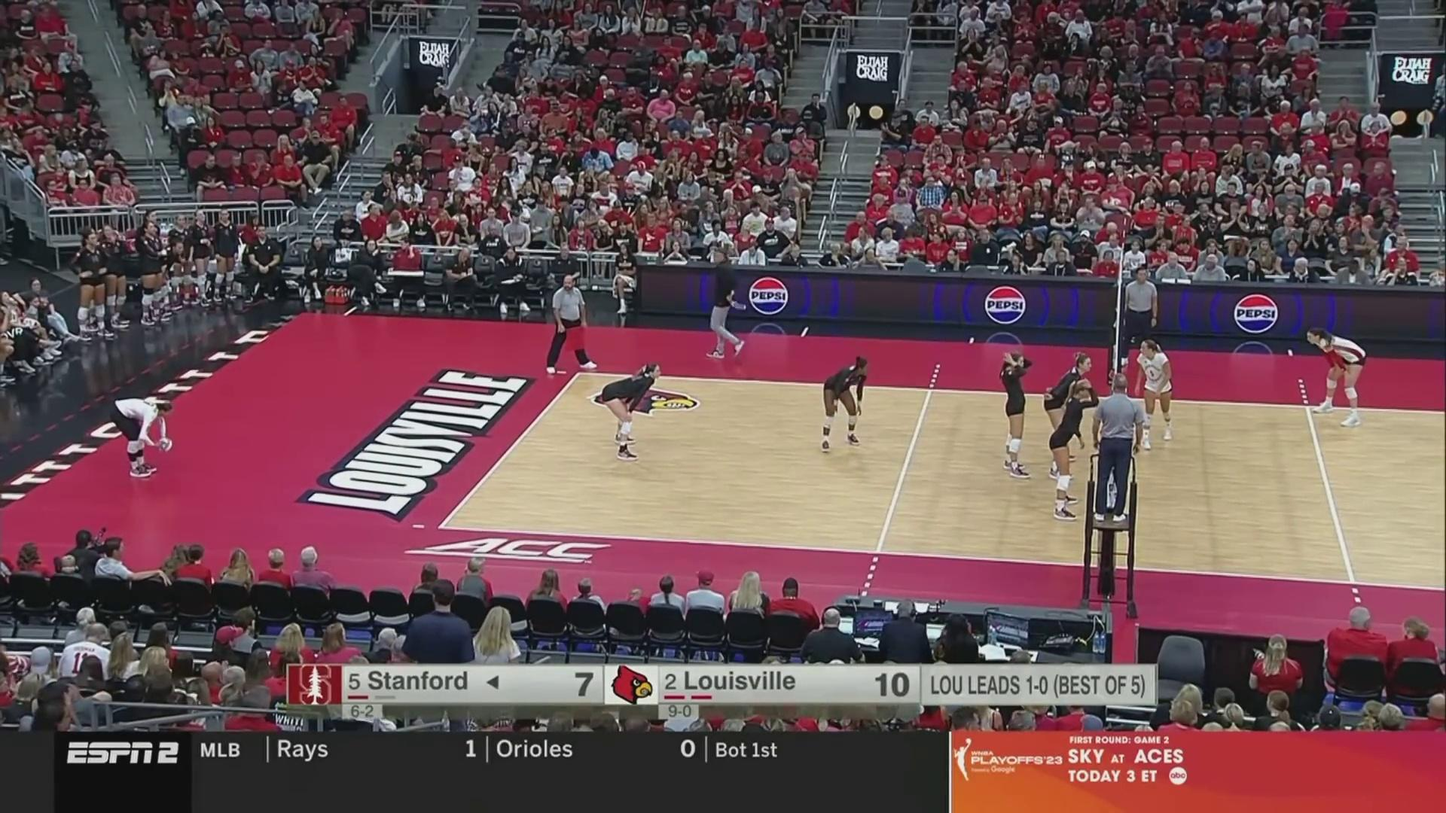player: (1049, 379, 1096, 520), (1044, 350, 1091, 480), (601, 360, 661, 461), (1306, 328, 1367, 424), (106, 400, 174, 477), (820, 358, 869, 452), (1136, 341, 1177, 449), (1000, 352, 1033, 480)
refree: (1092, 374, 1143, 519), (545, 274, 599, 373), (1124, 269, 1158, 374)
